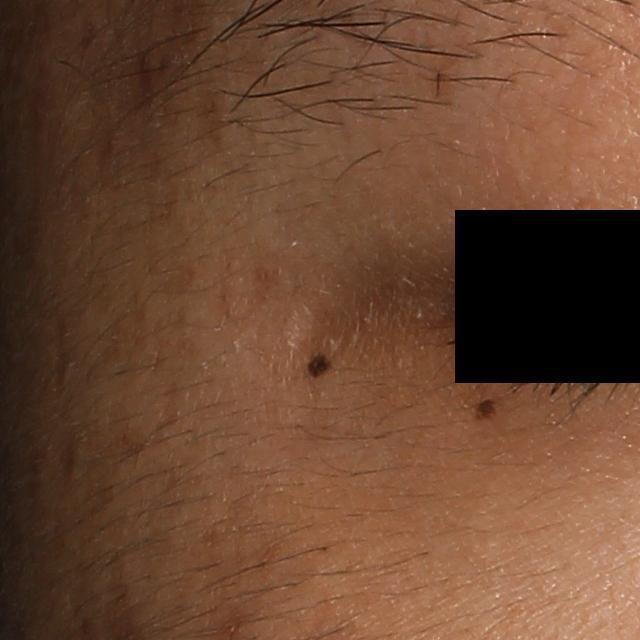nevus: (303, 350, 335, 379), (472, 397, 499, 423)
